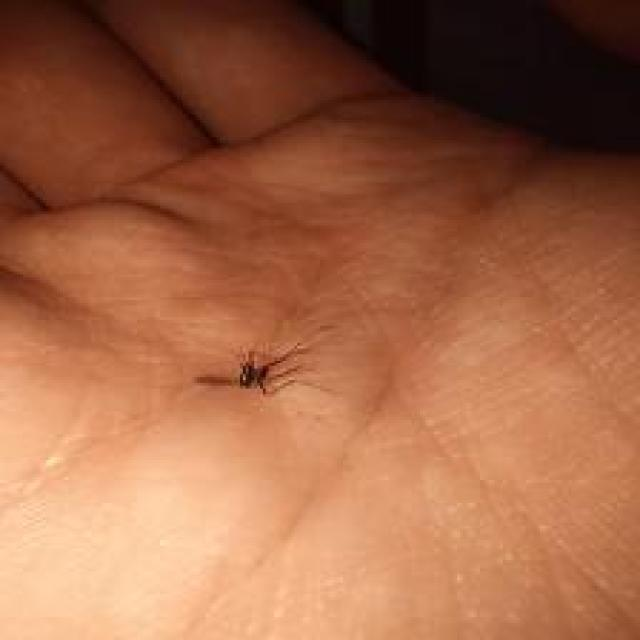Aedes albopictus: (233, 340, 307, 397)
